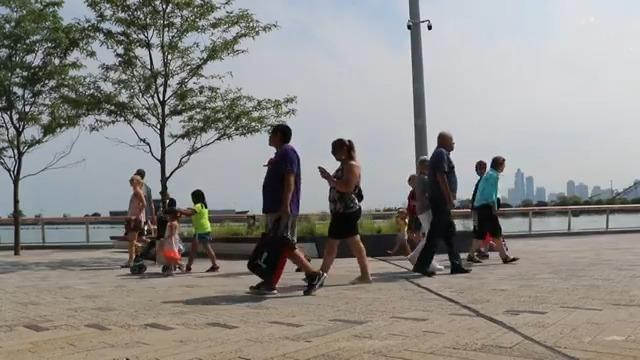no-helmet: (331, 137, 357, 162), (269, 123, 292, 148), (191, 189, 208, 210), (437, 131, 454, 152)
